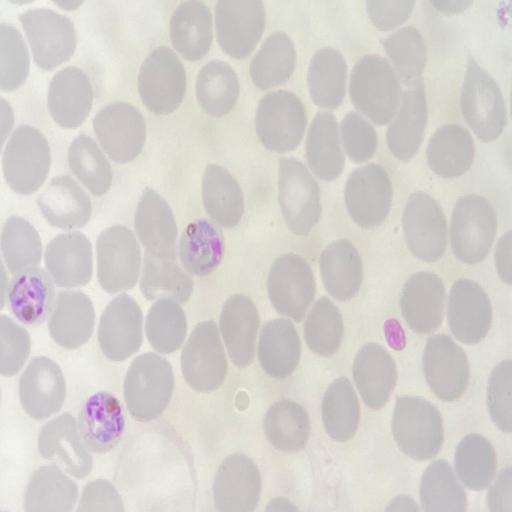Infected: (7, 265, 56, 327), (77, 389, 125, 450), (179, 219, 224, 276)
Uninfected: (458, 58, 506, 142), (347, 55, 402, 124), (18, 7, 78, 70), (121, 353, 176, 420), (276, 158, 323, 236), (385, 82, 429, 163), (137, 48, 189, 115), (400, 192, 449, 263), (2, 125, 52, 194), (254, 90, 308, 153), (390, 395, 443, 459), (180, 322, 229, 391), (265, 255, 317, 320), (448, 193, 496, 263), (92, 101, 146, 163), (341, 165, 392, 230), (94, 224, 142, 293), (445, 278, 492, 347), (36, 413, 90, 472), (420, 335, 469, 400), (218, 294, 262, 366), (42, 232, 96, 290), (398, 271, 446, 335), (36, 177, 95, 229), (98, 294, 143, 362), (46, 66, 96, 127), (202, 160, 246, 229), (139, 252, 194, 307), (213, 1, 266, 58), (350, 343, 397, 407), (17, 357, 66, 418), (136, 188, 179, 257), (47, 290, 96, 349), (66, 134, 114, 194), (379, 26, 427, 86), (249, 33, 298, 91), (255, 318, 302, 378), (168, 2, 216, 60), (304, 112, 347, 176), (317, 241, 362, 302), (305, 47, 350, 108), (210, 455, 261, 508), (426, 123, 473, 179), (320, 379, 363, 440), (143, 298, 189, 355), (0, 214, 43, 273), (303, 298, 346, 356), (195, 60, 240, 115), (23, 467, 79, 511), (263, 399, 310, 451), (452, 433, 496, 488), (419, 460, 467, 507), (339, 111, 378, 165), (365, 1, 417, 32)
